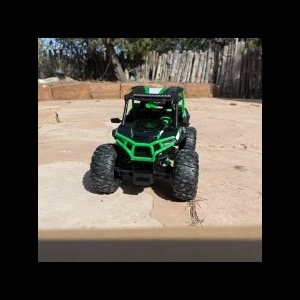polaris: (90, 86, 201, 204)
